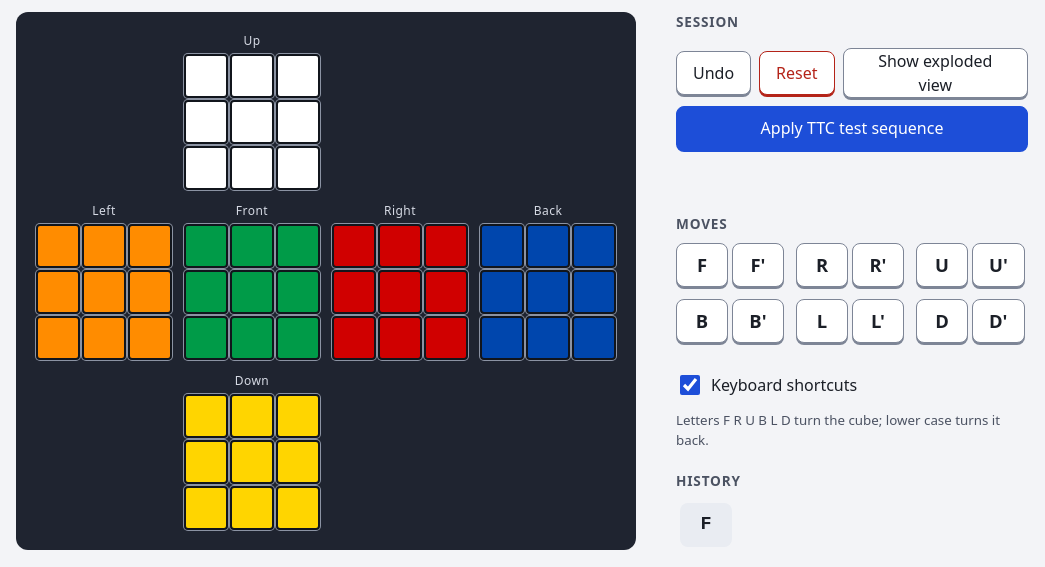
Test case: CubePage › history, undo and reset › moves focus to Reset when the last Undo disables the Undo button
Click the button "Undo": x=714, y=73 [676,51,751,95]
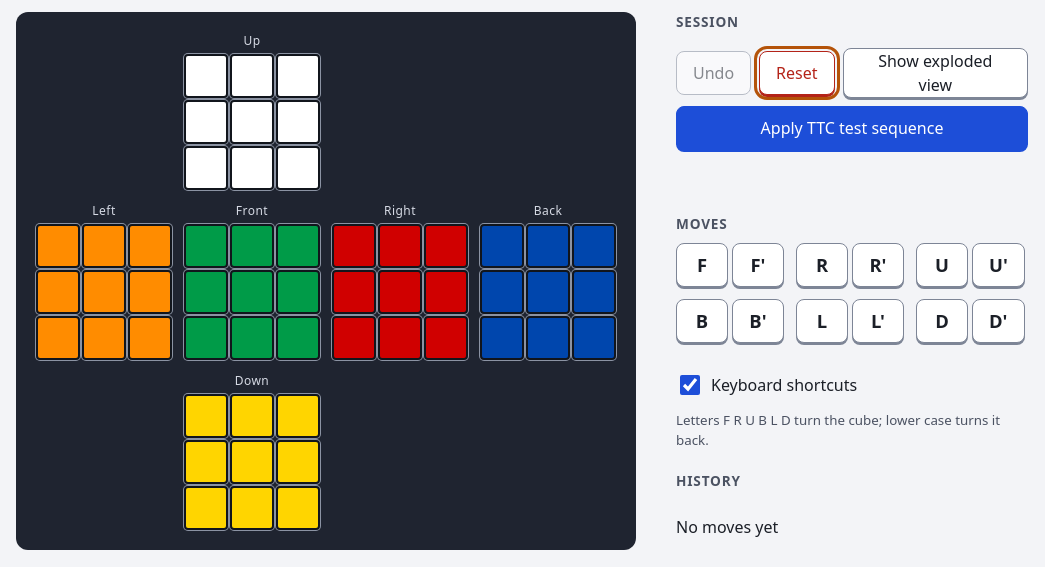
expect the button "Undo" is disabled: met, box [676,51,751,95]
